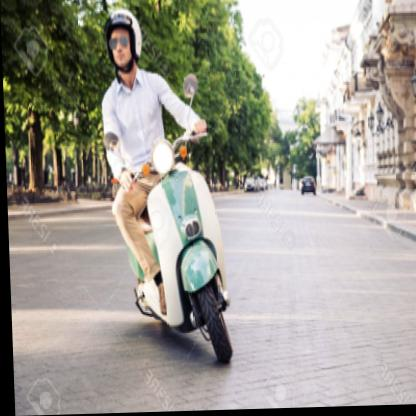With Helmet: (102, 6, 146, 75)
